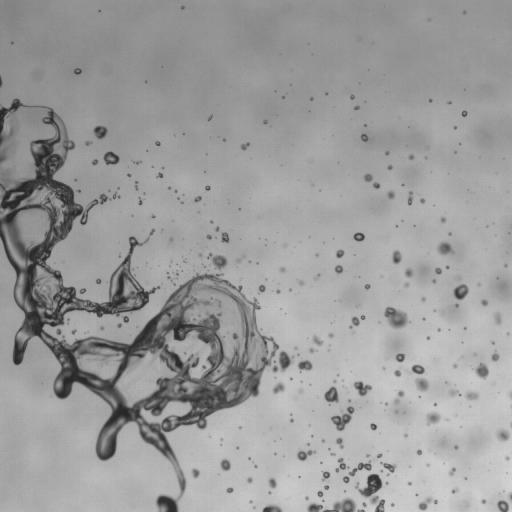droplet: (355, 473, 388, 511), (331, 406, 354, 430), (384, 307, 409, 329), (207, 253, 227, 270), (353, 381, 371, 396), (453, 284, 468, 300), (324, 386, 338, 403), (474, 363, 488, 379), (103, 151, 119, 164), (93, 125, 107, 139), (415, 377, 428, 391), (426, 412, 440, 425), (437, 242, 452, 254), (335, 458, 347, 472), (381, 462, 396, 473), (496, 429, 509, 441), (298, 360, 312, 371), (410, 364, 424, 375), (272, 382, 285, 393), (464, 391, 478, 400), (220, 459, 231, 470), (497, 500, 508, 511), (392, 250, 401, 263), (312, 335, 322, 346), (353, 232, 364, 241), (448, 389, 460, 396), (395, 353, 404, 362), (221, 232, 229, 242), (491, 351, 499, 361), (191, 468, 199, 478), (322, 471, 330, 481), (268, 478, 276, 488), (494, 313, 501, 324), (336, 437, 343, 448), (336, 249, 344, 258), (404, 268, 412, 277), (334, 265, 342, 273), (387, 190, 394, 199), (241, 143, 249, 150), (364, 174, 372, 181), (361, 134, 368, 141), (258, 285, 265, 292), (122, 315, 129, 322), (394, 369, 401, 376), (448, 468, 455, 475), (74, 68, 81, 74), (194, 196, 201, 202), (370, 423, 376, 430), (451, 487, 458, 493), (317, 490, 323, 497), (92, 159, 98, 165), (373, 182, 379, 188), (435, 268, 441, 274), (481, 299, 487, 305), (112, 193, 119, 198), (226, 487, 233, 492), (462, 110, 467, 116), (408, 154, 414, 159), (309, 348, 315, 353), (247, 477, 252, 483), (157, 172, 162, 177), (205, 185, 210, 190), (206, 234, 211, 239), (280, 267, 285, 272), (298, 280, 303, 285), (404, 282, 409, 287), (365, 284, 370, 289), (80, 288, 85, 293), (377, 453, 382, 458), (85, 141, 91, 145), (138, 198, 142, 204), (350, 94, 354, 99), (155, 141, 160, 145), (387, 165, 392, 169), (420, 198, 424, 203), (441, 217, 445, 222), (236, 258, 241, 262), (315, 274, 319, 279), (455, 276, 460, 280), (96, 278, 100, 283), (328, 333, 333, 337), (298, 389, 303, 393), (417, 449, 421, 454), (324, 485, 329, 489), (481, 499, 486, 503), (215, 227, 219, 231), (276, 289, 280, 293), (421, 297, 425, 301), (117, 323, 121, 327), (71, 329, 75, 333), (453, 364, 457, 368), (454, 445, 458, 449), (505, 456, 509, 460), (354, 106, 359, 109), (208, 116, 212, 119), (169, 238, 173, 241), (198, 253, 202, 256), (100, 326, 103, 330), (263, 120, 266, 123), (385, 151, 388, 154), (127, 173, 130, 176), (446, 265, 449, 268), (175, 271, 178, 274), (181, 6, 184, 8), (429, 99, 431, 102), (454, 126, 456, 129), (77, 190, 80, 192), (174, 190, 177, 192), (152, 215, 154, 218), (432, 280, 435, 282), (427, 336, 429, 339), (333, 380, 336, 382), (434, 403, 436, 406), (290, 419, 293, 421), (404, 434, 407, 436), (254, 465, 257, 467), (305, 497, 308, 499), (391, 503, 393, 506), (184, 260, 186, 262), (504, 264, 506, 266), (456, 304, 458, 306), (224, 321, 226, 323), (438, 329, 440, 331), (190, 345, 192, 347), (294, 347, 296, 349), (183, 351, 185, 353), (382, 367, 384, 369), (367, 454, 369, 456)
ligament: (0, 104, 293, 511), (307, 497, 366, 511), (342, 460, 372, 483), (418, 497, 437, 511), (349, 315, 365, 329), (297, 450, 315, 460), (393, 390, 404, 404), (262, 504, 282, 511), (408, 191, 413, 204), (167, 274, 174, 282), (507, 492, 511, 502), (508, 391, 511, 399), (0, 76, 2, 87), (134, 182, 137, 189), (135, 161, 140, 163), (510, 423, 511, 426)
